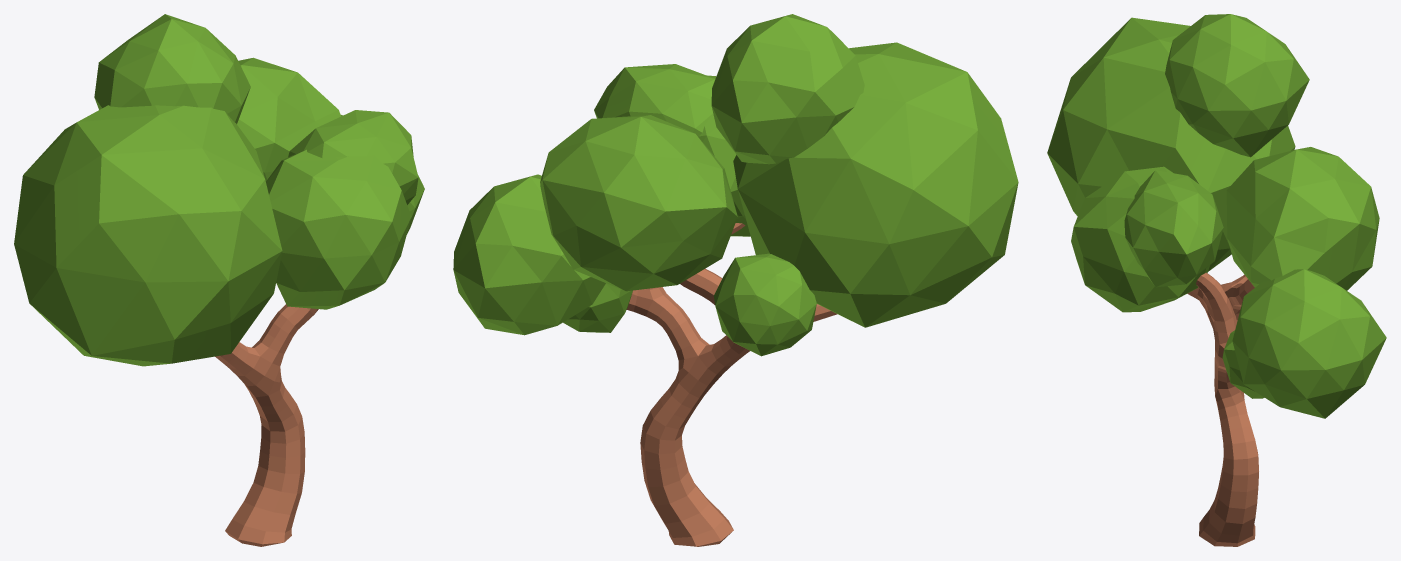
The model's file is crooked_tree.obj.
3 renders of one model, left to right at view 1: azimuth 30°, elevation 25°; view 2: azimuth 150°, elevation 25°; view 3: azimuth 270°, elevation 25°, orthographic. The views are drawn at different scales.
Parts seen in each view (by area): view 1: Plane; view 2: Plane; view 3: Plane.
Part boxes in pixels (left/top/right/bottom): Plane: left=14, top=14, right=424, bottom=546; Plane: left=453, top=14, right=1018, bottom=546; Plane: left=1047, top=14, right=1386, bottom=546.
Size of the model in its own units: 9.06 by 10.25 by 6.51.
